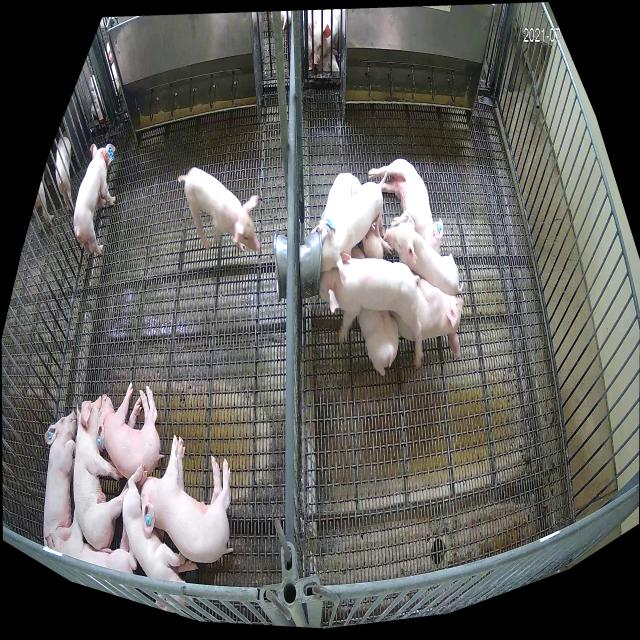pig: (140, 434, 233, 562), (320, 254, 423, 369), (122, 464, 198, 611), (73, 395, 129, 552), (176, 168, 261, 252), (369, 160, 444, 254), (320, 178, 383, 284), (97, 381, 164, 479), (45, 507, 137, 575), (383, 223, 463, 297), (74, 143, 116, 256), (344, 173, 393, 259), (44, 410, 76, 540), (415, 274, 464, 356), (356, 311, 399, 376), (323, 173, 352, 220)
